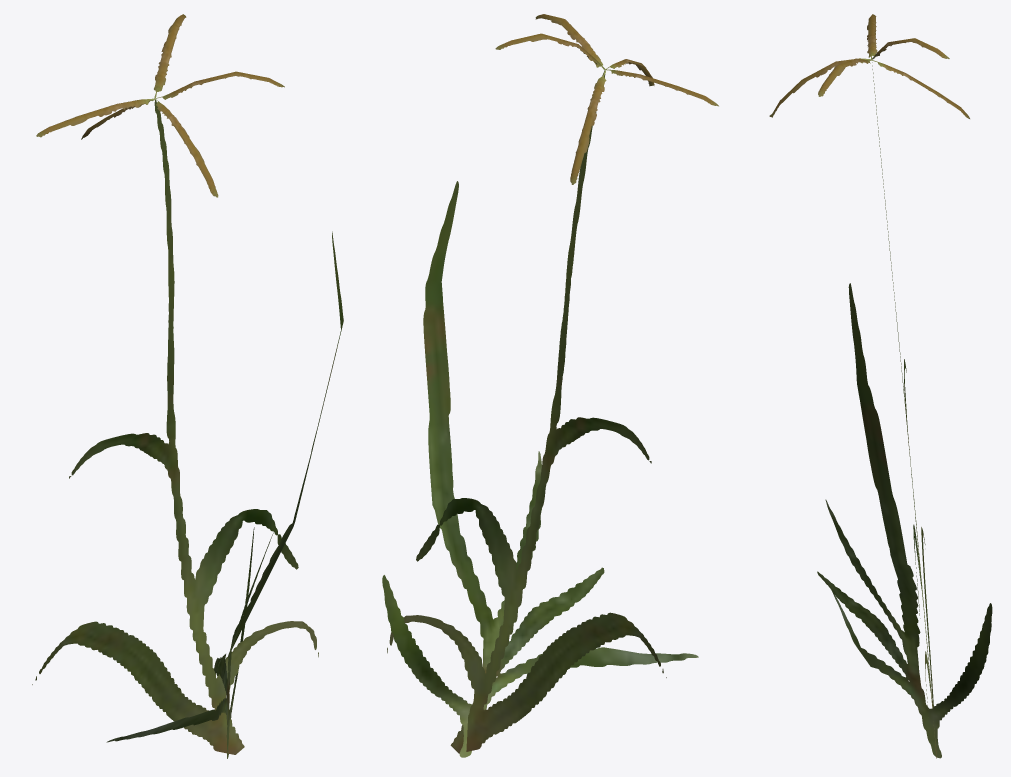
3 renders of one model, left to right at view 1: azimuth 30°, elevation 25°; view 2: azimuth 150°, elevation 25°; view 3: azimuth 270°, elevation 25°, orthographic. The views are drawn at different scales.
Visible parts, largest first — view 1: grass_bermuda_01__a_lod0; view 2: grass_bermuda_01__a_lod0; view 3: grass_bermuda_01__a_lod0.
Part boxes in pixels (x1,y1,x2,y2): grass_bermuda_01__a_lod0: [32, 14, 343, 758]; grass_bermuda_01__a_lod0: [382, 14, 718, 757]; grass_bermuda_01__a_lod0: [769, 14, 992, 758].
Bounding box in the file's own units: 0.0678 × 0.1509 × 0.0456.
Materials: 1 (1 with a texture image).
